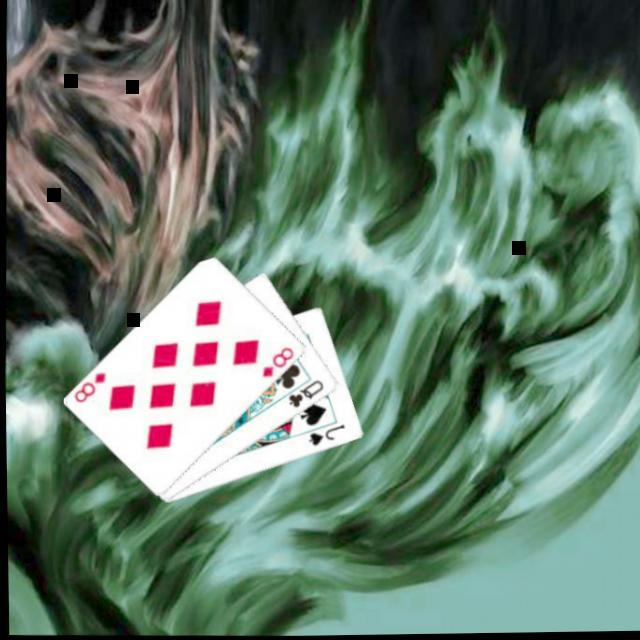8D: (70, 366, 109, 404), (258, 342, 296, 379)
JS: (304, 419, 346, 448)
QC: (284, 374, 326, 410)
